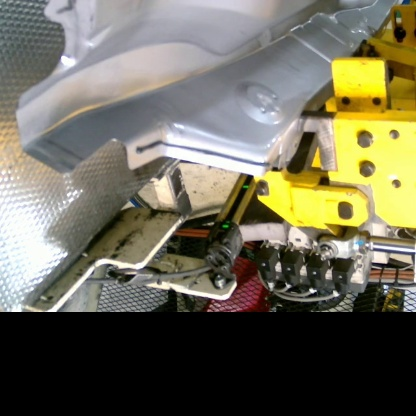line: (134, 137, 272, 169)
